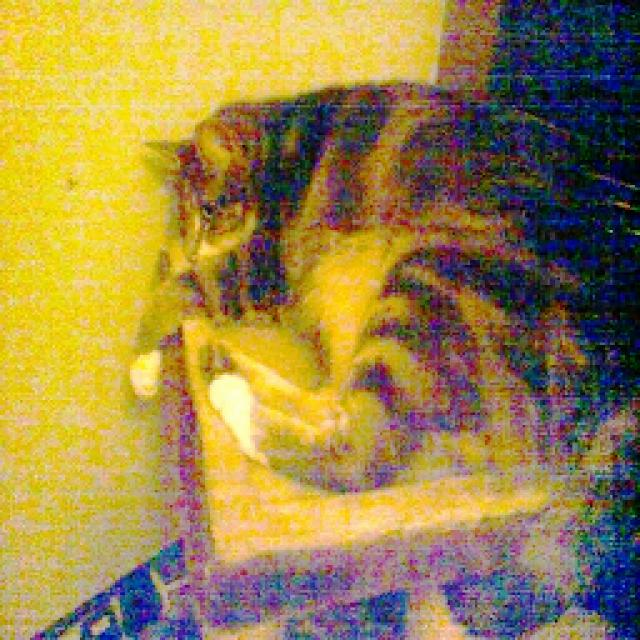cat: (127, 76, 624, 490)
